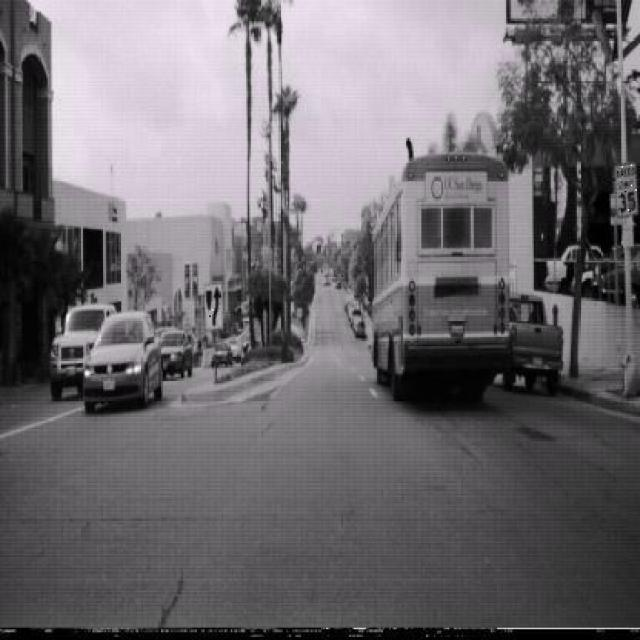keepRight: (203, 280, 224, 331)
speedLimit35: (614, 160, 638, 217)
